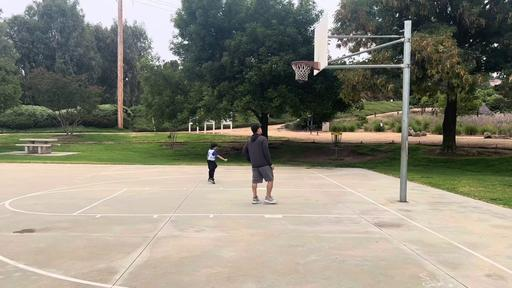ball: (297, 79, 306, 84)
human: (242, 123, 276, 204), (206, 143, 228, 184)
rim: (292, 61, 319, 80)
